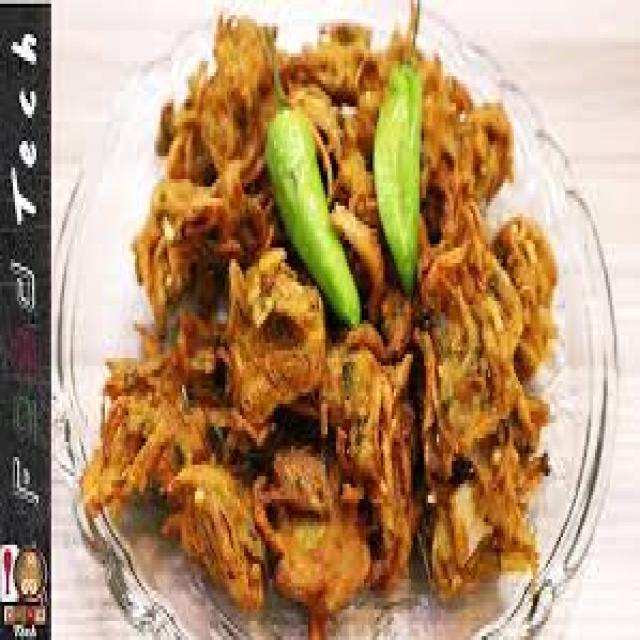BAJI: (81, 6, 558, 636)
